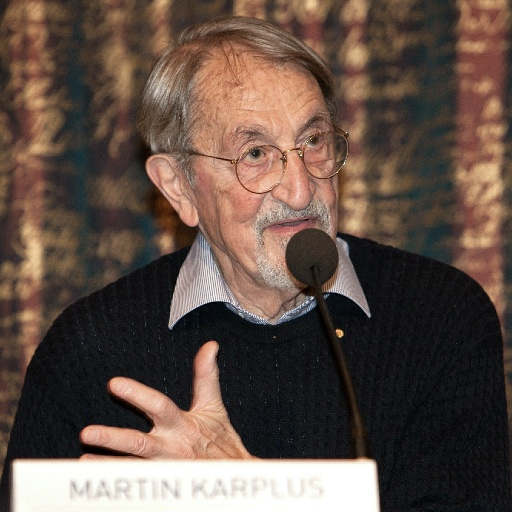hand: (94, 355, 254, 464)
